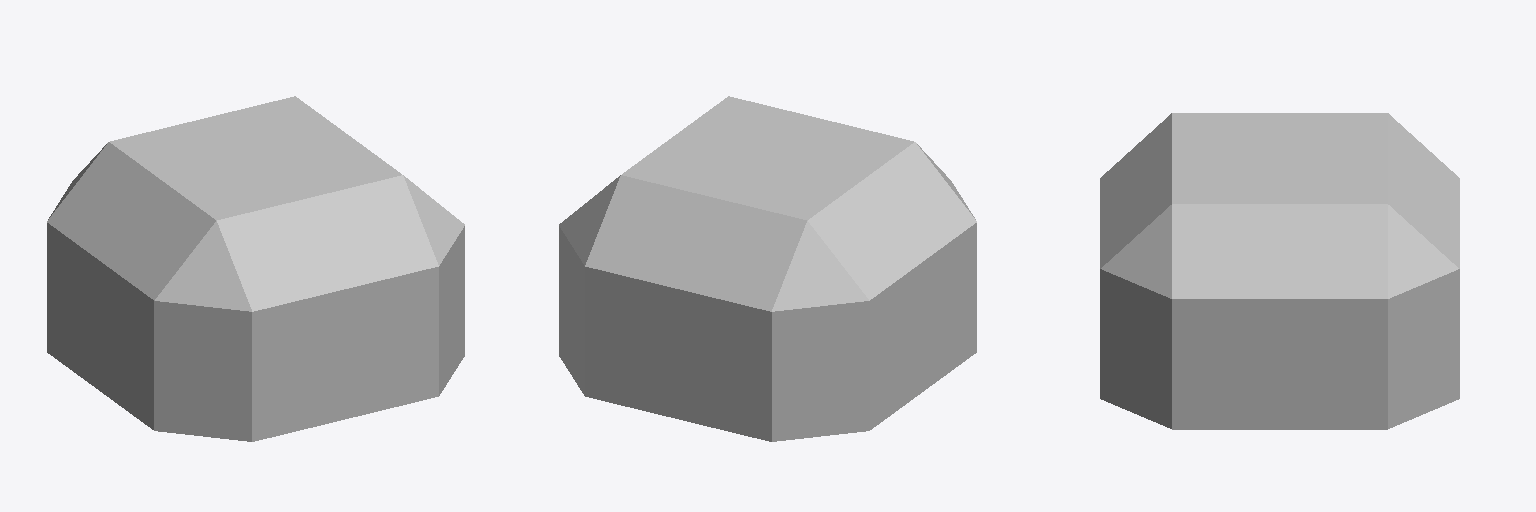
The model's file is floor_tile_small.obj.
The picture shows the model from 3 angles: view 1: azimuth 30°, elevation 25°; view 2: azimuth 150°, elevation 25°; view 3: azimuth 270°, elevation 25°; orthographic projection.
Parts seen in each view (by area): view 1: floor_tile_small; view 2: floor_tile_small; view 3: floor_tile_small.
Part boxes in pixels (x1,y1,x2,y2): floor_tile_small: (47,96,464,441); floor_tile_small: (559,96,976,441); floor_tile_small: (1100,113,1459,429).
Bounding box in the file's own units: 0.25 × 0.15 × 0.25.